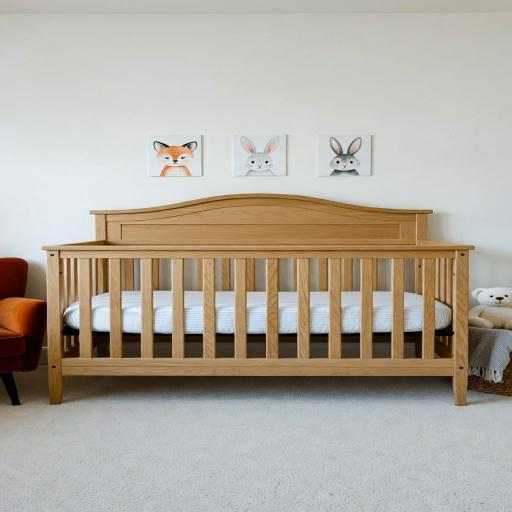crib: (44, 194, 472, 405)
